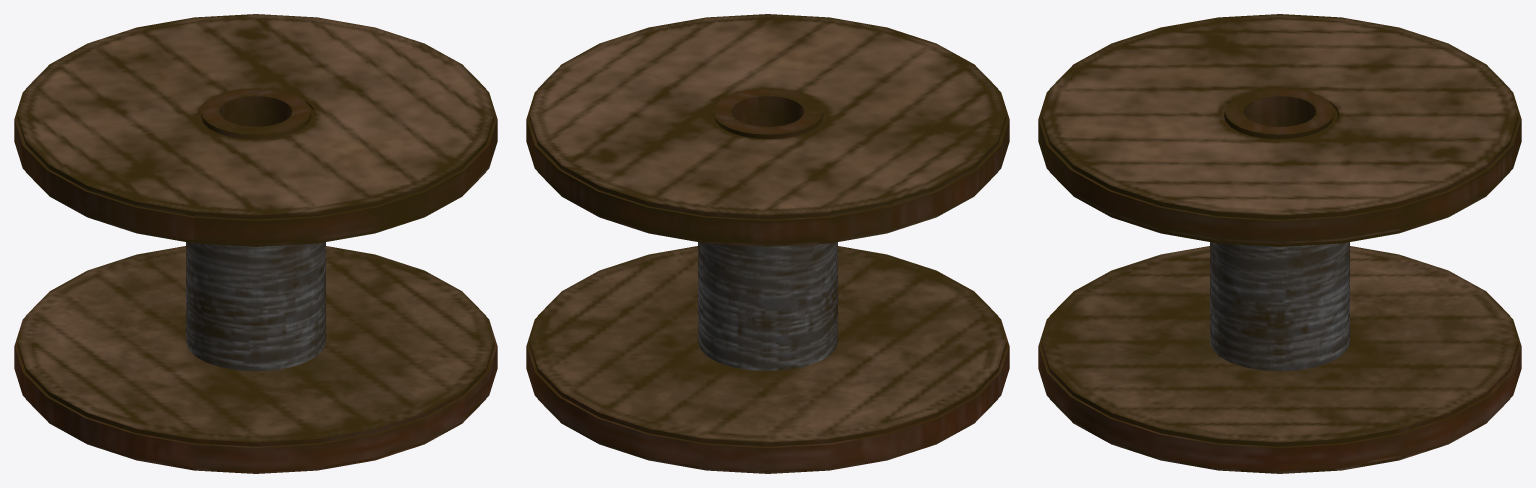
The model's file is Half Full Spool.fbx.
3 renders of one model, left to right at view 1: azimuth 30°, elevation 25°; view 2: azimuth 150°, elevation 25°; view 3: azimuth 270°, elevation 25°, orthographic.
Parts seen in each view (by area): view 1: Cylinder; view 2: Cylinder; view 3: Cylinder.
Boxes of the visible parts, x1,y1,x2,y2 form: Cylinder: [14, 14, 497, 473]; Cylinder: [526, 14, 1009, 473]; Cylinder: [1038, 14, 1521, 473].
Bounding box in the file's own units: 127 × 76.83 × 127.
